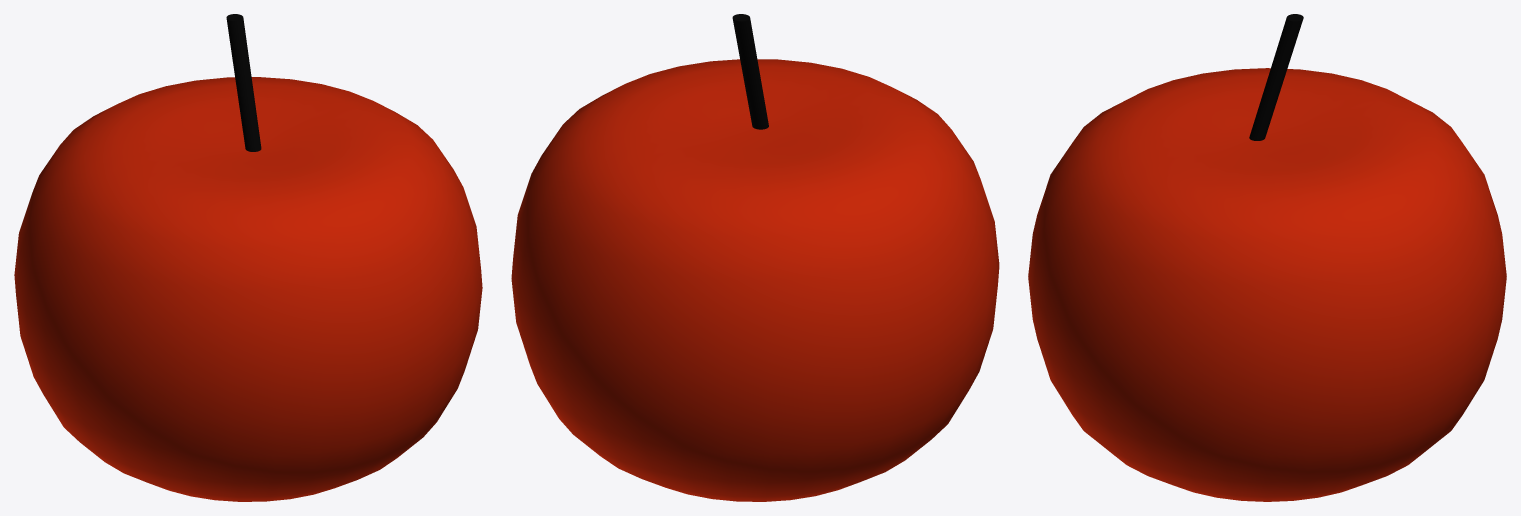
File: apple.gltf
The picture shows the model from 3 angles, left to right: view 1: azimuth 30°, elevation 25°; view 2: azimuth 150°, elevation 25°; view 3: azimuth 270°, elevation 25°; orthographic projection. The views are drawn at different scales.
Visible parts, largest first — view 1: Sphere.002; view 2: Sphere.002; view 3: Sphere.002.
Boxes of the visible parts, bbox=[...] form: Sphere.002: bbox=[14, 14, 482, 501]; Sphere.002: bbox=[511, 14, 999, 501]; Sphere.002: bbox=[1028, 14, 1506, 501].
Bounding box in the file's own units: 2 × 2.06 × 2.
